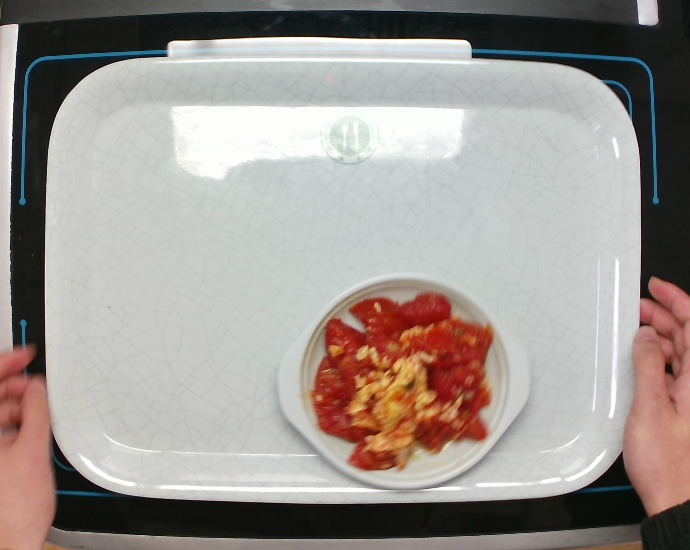JYsf-Shuang_Er_Pan: (268, 262, 535, 492)
